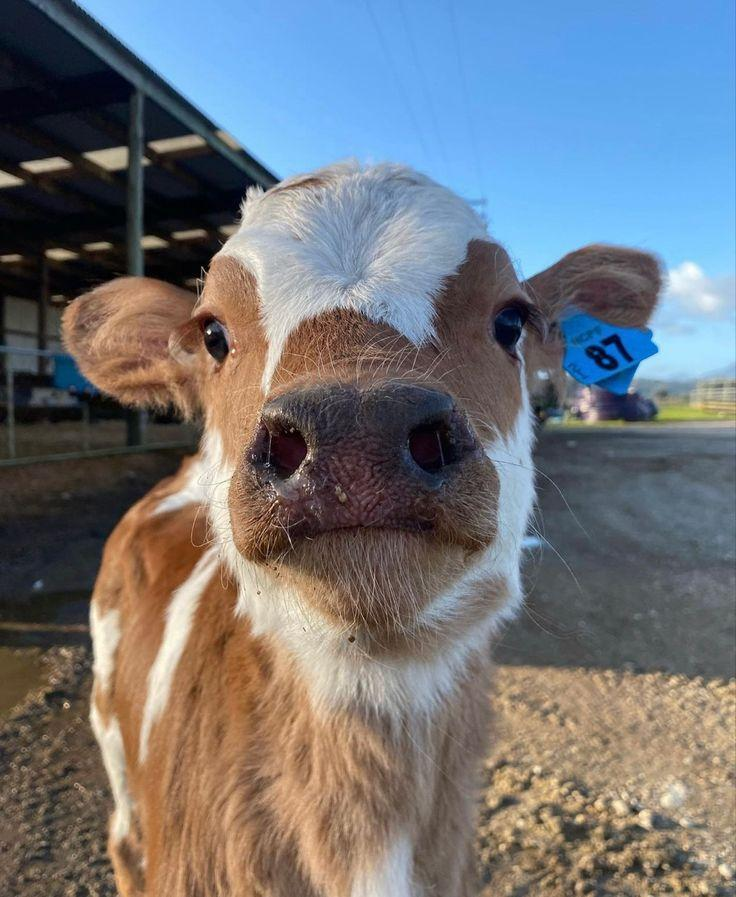cow: (37, 135, 678, 890)
